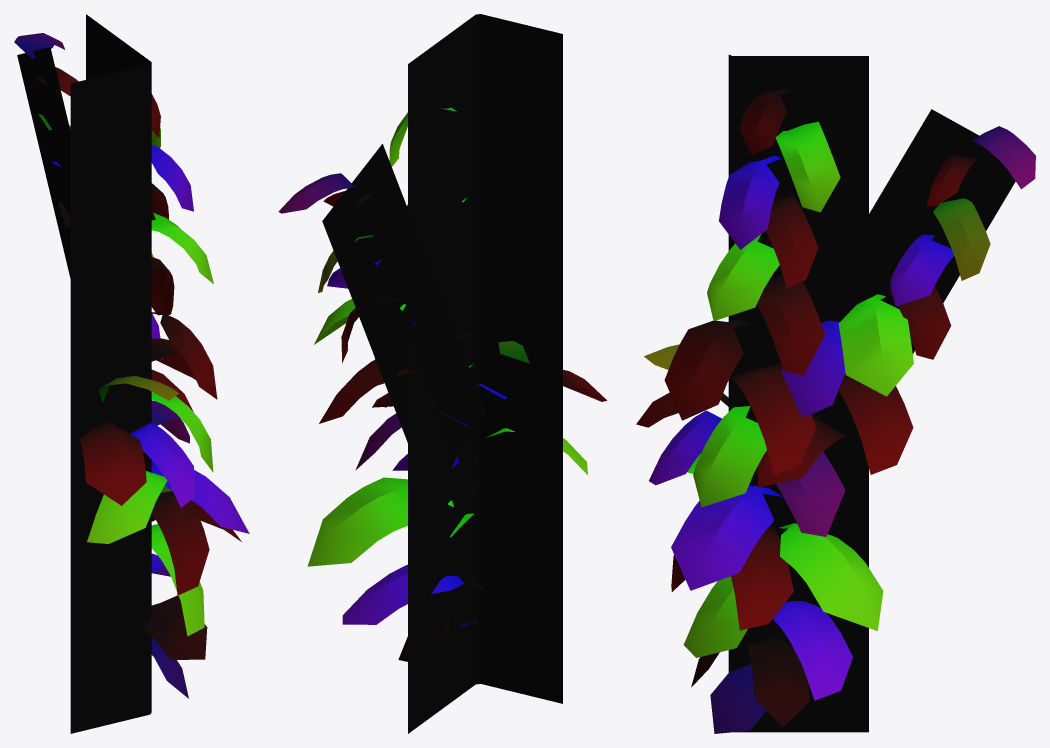
Rendered from Vine_monstera_var3.fbx.
3 renders of one model, left to right at view 1: azimuth 30°, elevation 25°; view 2: azimuth 150°, elevation 25°; view 3: azimuth 270°, elevation 25°, orthographic. The views are drawn at different scales.
Parts seen in each view (by area): view 1: MO_var3_LOD0; view 2: MO_var3_LOD0; view 3: MO_var3_LOD0.
Part boxes in pixels (left/top/right/bottom): MO_var3_LOD0: left=14, top=14, right=249, bottom=733; MO_var3_LOD0: left=278, top=14, right=606, bottom=733; MO_var3_LOD0: left=636, top=54, right=1035, bottom=733.
Size of what is drawn, in the model's own units: 1.45 by 4.48 by 2.4.
